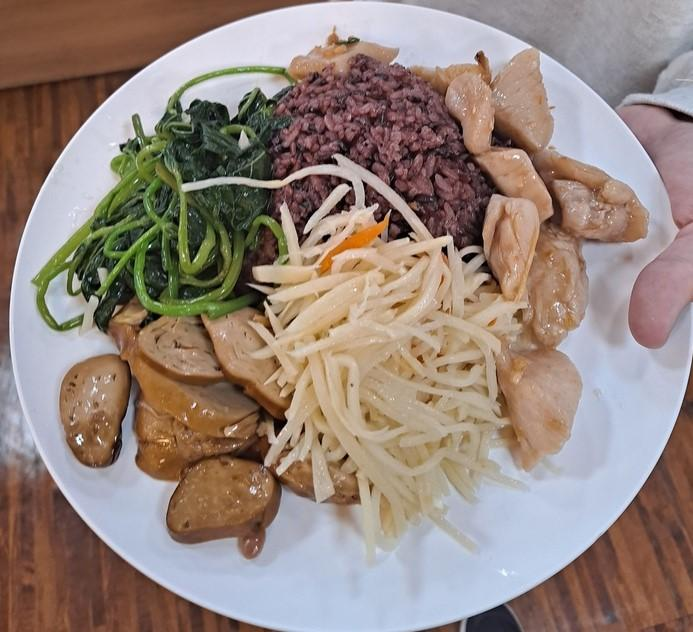big fried chicken leg: (9, 7, 693, 632)
braised fish: (273, 58, 485, 254)
braised fish fillet: (265, 203, 519, 565), (46, 297, 367, 551), (31, 56, 293, 333)
braised pork: (446, 46, 650, 467)
